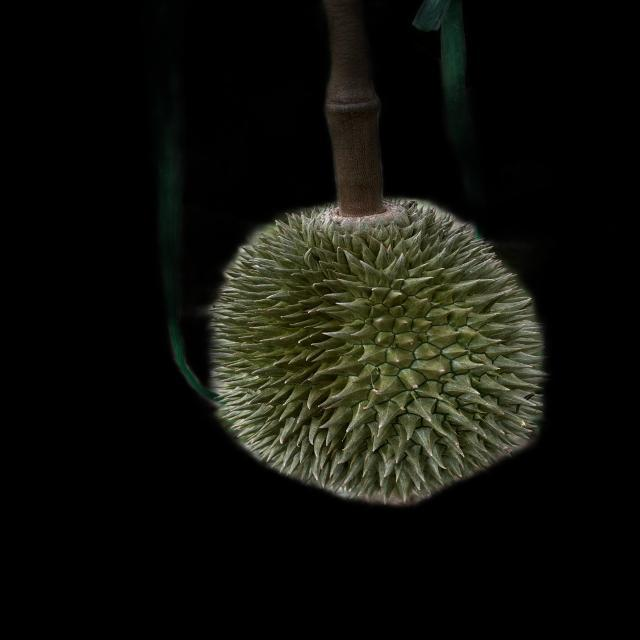UNRIPE: (208, 196, 540, 496)
